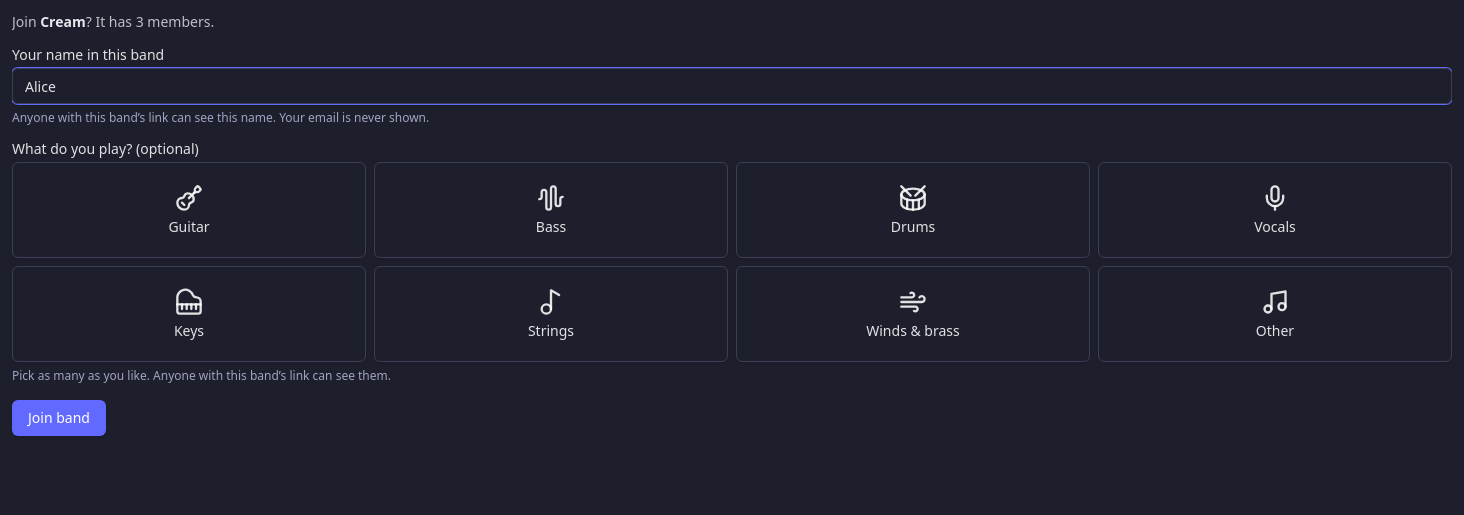
Test case: JoinConfirm › shows a plain failure message as is
The image size is (1464, 515).
Click the button "Join band". click: (59,418)
box: left=12, top=400, right=106, bottom=436
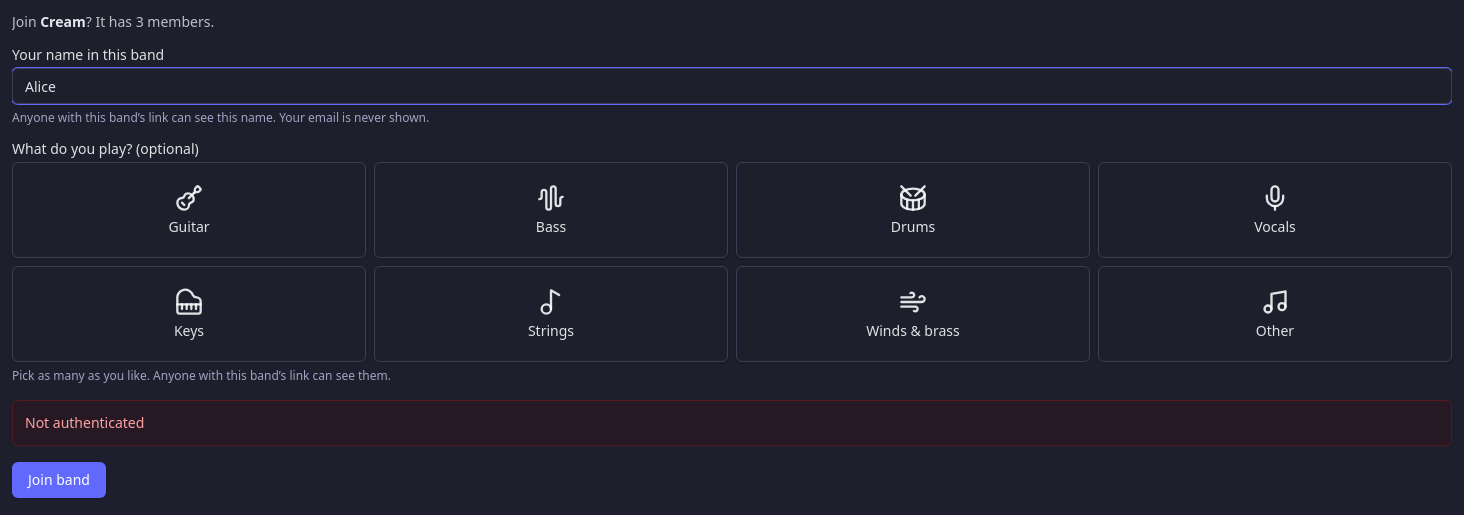
Now the message reads "Not authenticated", box left=25, top=413, right=144, bottom=432
